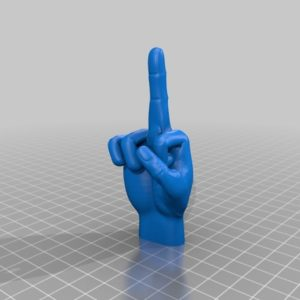finger: (144, 44, 171, 134), (123, 130, 151, 168), (156, 130, 194, 157), (107, 133, 130, 165)
